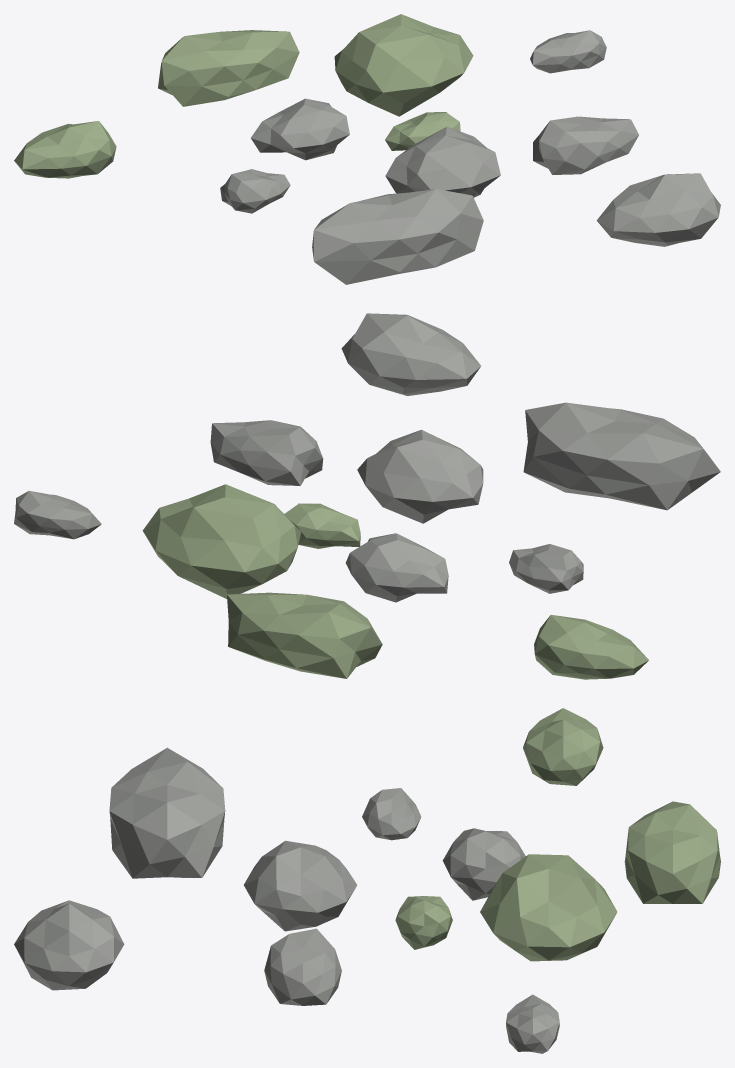
Rendered from norway-scree_lod0.glb.
3 renders of one model, top to bottom at view 1: azimuth 30°, elevation 25°; view 2: azimuth 150°, elevation 25°; view 3: azimuth 270°, elevation 25°, orthographic. The views are drawn at different scales.
Parts seen in each view (by area): view 1: RF_Scree7, RF_Scree3, RF_Scree6, RF_Scree10, RF_Scree2, RF_Scree5, RF_Scree9, RF_Scree1, RF_Scree8, RF_Scree4, RF_Scree0; view 2: RF_Scree7, RF_Scree3, RF_Scree6, RF_Scree10, RF_Scree2, RF_Scree5, RF_Scree9, RF_Scree1, RF_Scree8, RF_Scree4, RF_Scree0; view 3: RF_Scree7, RF_Scree3, RF_Scree6, RF_Scree2, RF_Scree10, RF_Scree5, RF_Scree9, RF_Scree1, RF_Scree8, RF_Scree0, RF_Scree4.
Part boxes in pixels (bbox=[...]): RF_Scree7: bbox=[312, 189, 483, 284]; RF_Scree3: bbox=[334, 14, 473, 116]; RF_Scree6: bbox=[158, 30, 299, 106]; RF_Scree10: bbox=[596, 173, 720, 246]; RF_Scree2: bbox=[385, 126, 500, 197]; RF_Scree5: bbox=[533, 116, 638, 174]; RF_Scree9: bbox=[14, 121, 116, 178]; RF_Scree1: bbox=[251, 98, 349, 160]; RF_Scree8: bbox=[530, 30, 606, 73]; RF_Scree4: bbox=[220, 169, 290, 213]; RF_Scree0: bbox=[385, 112, 460, 150]; RF_Scree7: bbox=[523, 402, 720, 510]; RF_Scree3: bbox=[142, 484, 301, 598]; RF_Scree6: bbox=[227, 592, 382, 678]; RF_Scree10: bbox=[341, 313, 480, 395]; RF_Scree2: bbox=[357, 429, 483, 523]; RF_Scree5: bbox=[210, 420, 323, 485]; RF_Scree9: bbox=[534, 615, 648, 679]; RF_Scree1: bbox=[345, 533, 448, 602]; RF_Scree8: bbox=[14, 491, 101, 539]; RF_Scree4: bbox=[509, 544, 583, 593]; RF_Scree0: bbox=[284, 503, 360, 548]; RF_Scree7: bbox=[109, 747, 225, 878]; RF_Scree3: bbox=[480, 854, 617, 961]; RF_Scree6: bbox=[624, 801, 720, 903]; RF_Scree2: bbox=[244, 840, 356, 931]; RF_Scree10: bbox=[14, 900, 124, 990]; RF_Scree5: bbox=[264, 928, 341, 1005]; RF_Scree9: bbox=[523, 708, 603, 785]; RF_Scree1: bbox=[442, 828, 525, 900]; RF_Scree8: bbox=[506, 994, 559, 1053]; RF_Scree0: bbox=[395, 896, 452, 949]; RF_Scree4: bbox=[362, 788, 421, 840].
Size of the model in its own units: 11.66 by 1.52 by 11.05.
